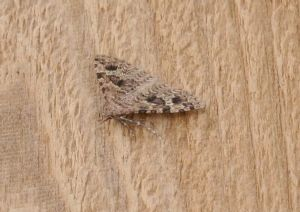Alucitidae: (91, 53, 205, 136)
moth: (89, 51, 203, 134)
